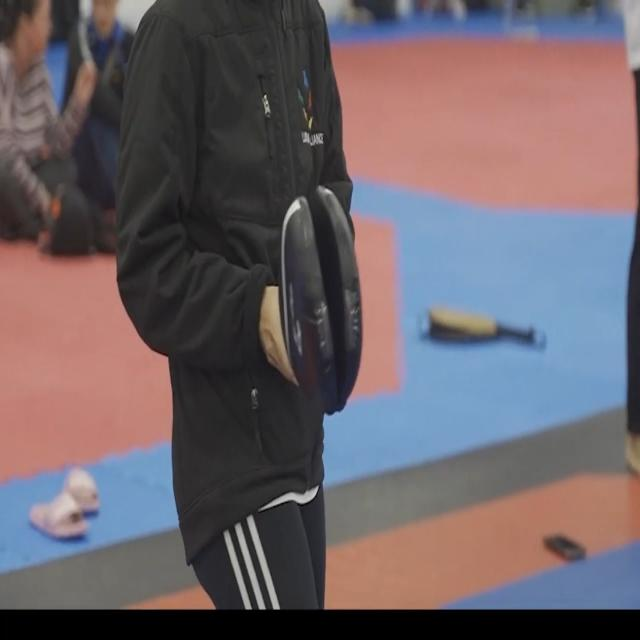paddle: (277, 180, 365, 420)
